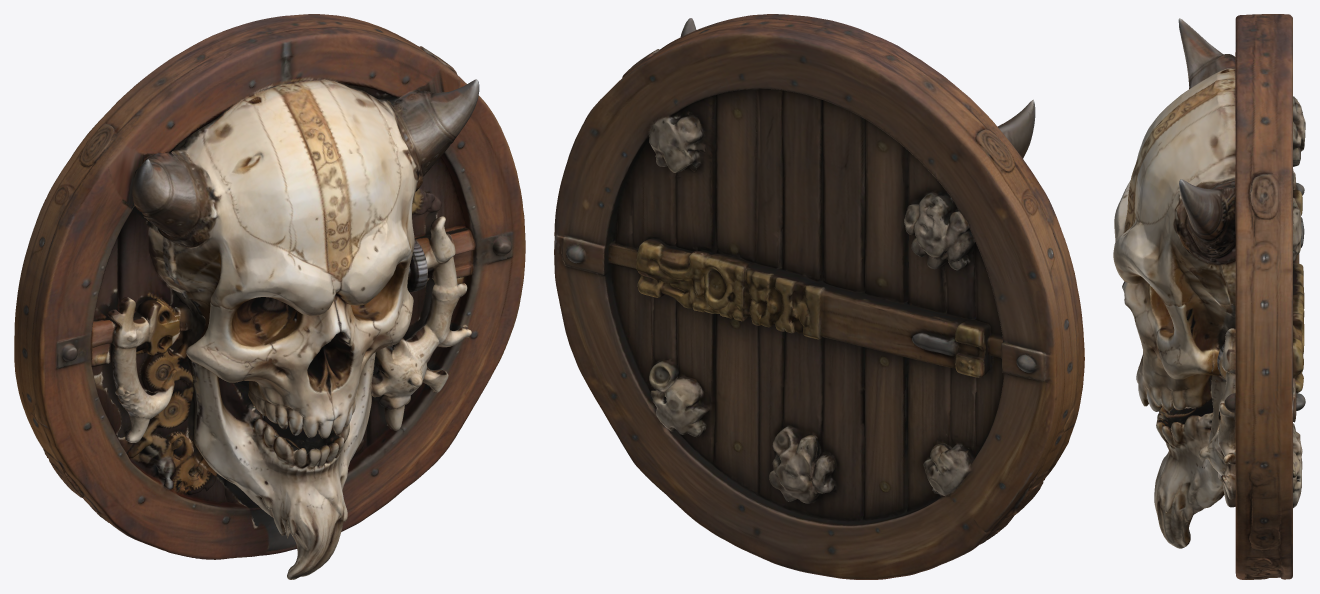
Rendered from PF_Shield15.glb.
3 views of the same model, side by side, from view 1: azimuth 30°, elevation 25°; view 2: azimuth 150°, elevation 25°; view 3: azimuth 270°, elevation 25° (orthographic). The views are drawn at different scales.
Size of the model in its own units: 1.98 by 2 by 0.6811.
Materials: 1 (1 with a texture image).
